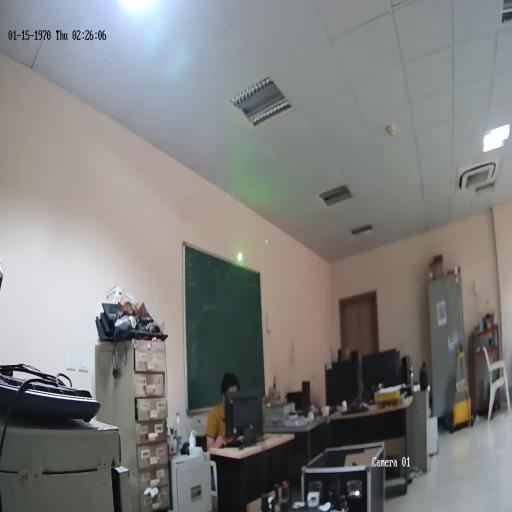laser: (236, 250, 243, 266)
